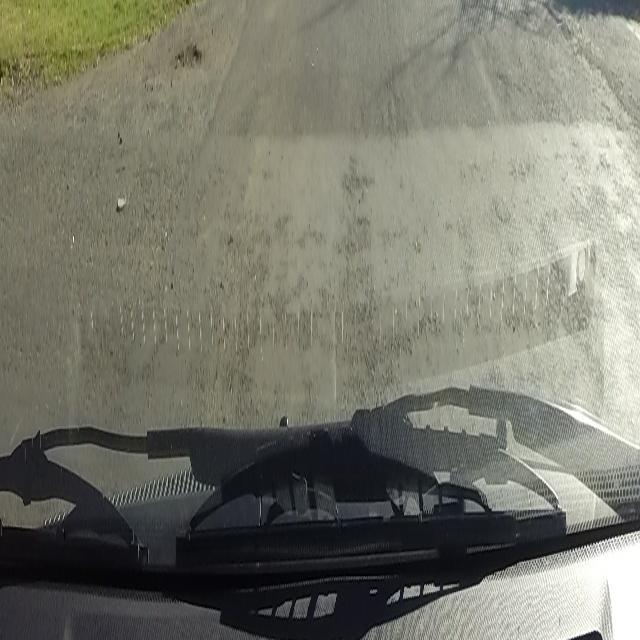pothole: (175, 38, 202, 74)
